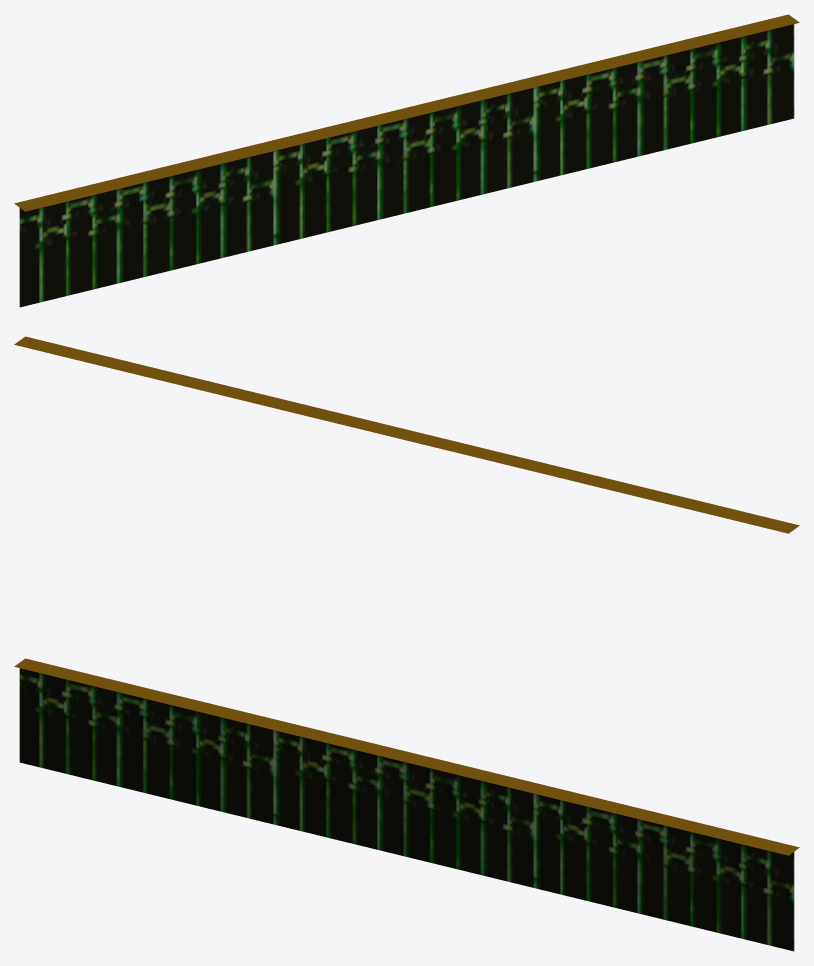
File: Geländer4Hoch [GrünesMetall2]_1869.glb
The picture shows the model from 3 angles, top to bottom: view 1: azimuth 30°, elevation 25°; view 2: azimuth 150°, elevation 25°; view 3: azimuth 330°, elevation 25°; orthographic projection.
Parts seen in each view (by area): view 1: pPlaneShape223, pPlaneShape224; view 2: pPlaneShape224; view 3: pPlaneShape223, pPlaneShape224.
Part boxes in pixels (x1,y1,x2,y2): pPlaneShape223: [19, 24, 794, 307]; pPlaneShape224: [14, 14, 799, 211]; pPlaneShape224: [14, 336, 799, 533]; pPlaneShape223: [19, 668, 794, 951]; pPlaneShape224: [14, 658, 799, 855].
Size of the model in its own units: 0.9614 by 0.1185 by 0.0243.
Materials: 2 (1 with a texture image).
